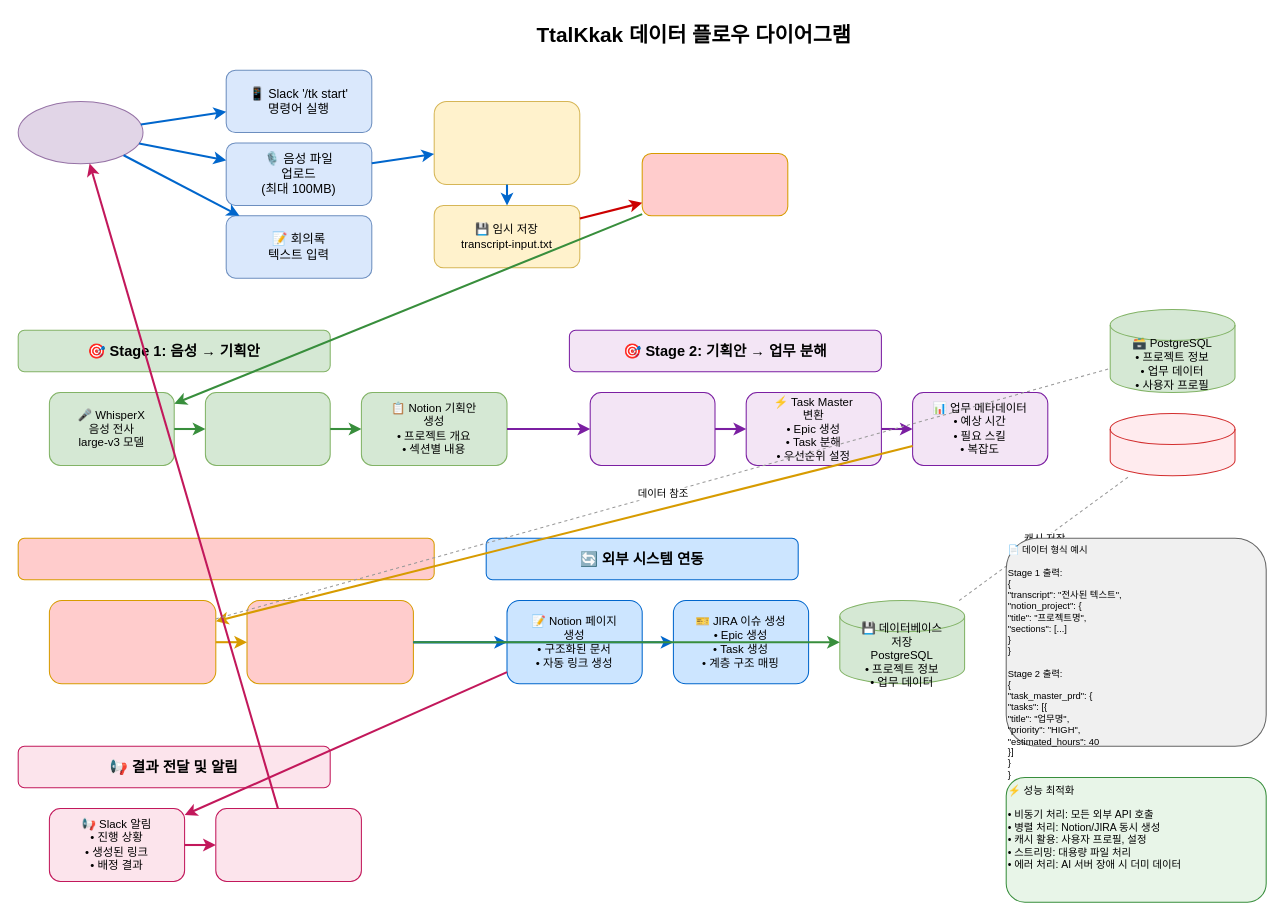
Some shapes in this 1284 by 920 pixel diagram are drawn without their labels. Each missing label, with the centre of its shape:
🎭 스마트 업무 배정 시스템: the point at 225,558
🎯 최적 배정 계산 스코어링 알고리즘 총점 = (스킬×0.4) + (워크로드×0.3) + (경험×0.2) + (우선순위×0.1): the point at 329,642
👤 사용자: the point at 80,132
📊 Qwen3-32B-AWQ 회의록 구조화 텍스트 분석: the point at 267,428
📊 사용자 프로필 분석 • 스킬 매칭 (40%) • 워크로드 (30%) • 경험 수준 (20%) • 우선순위 (10%): the point at 132,642
📝 PRD 생성 Product Requirements Document: the point at 652,428
🔄 Redis Cache • 세션 정보 • 임시 데이터: the point at 1172,444
🔍 파일 검증 • 타입 확인 • 크기 제한 • 보안 검사: the point at 506,142
🔗 결과 링크 제공 • Notion 페이지 URL • JIRA 프로젝트 URL • 실시간 상태: the point at 288,844
🧠 AI 서버 호출 Runpod AI Engine: the point at 714,184
